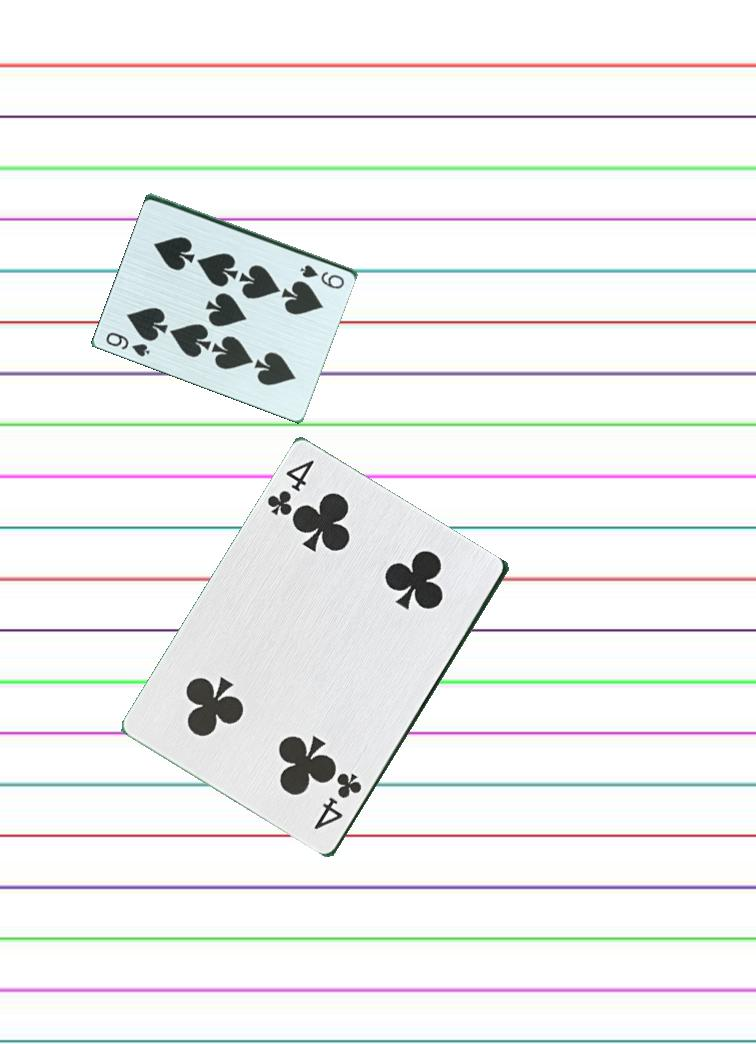4c: (310, 768, 365, 834), (263, 457, 317, 521)
9s: (102, 328, 153, 360), (296, 261, 348, 291)
